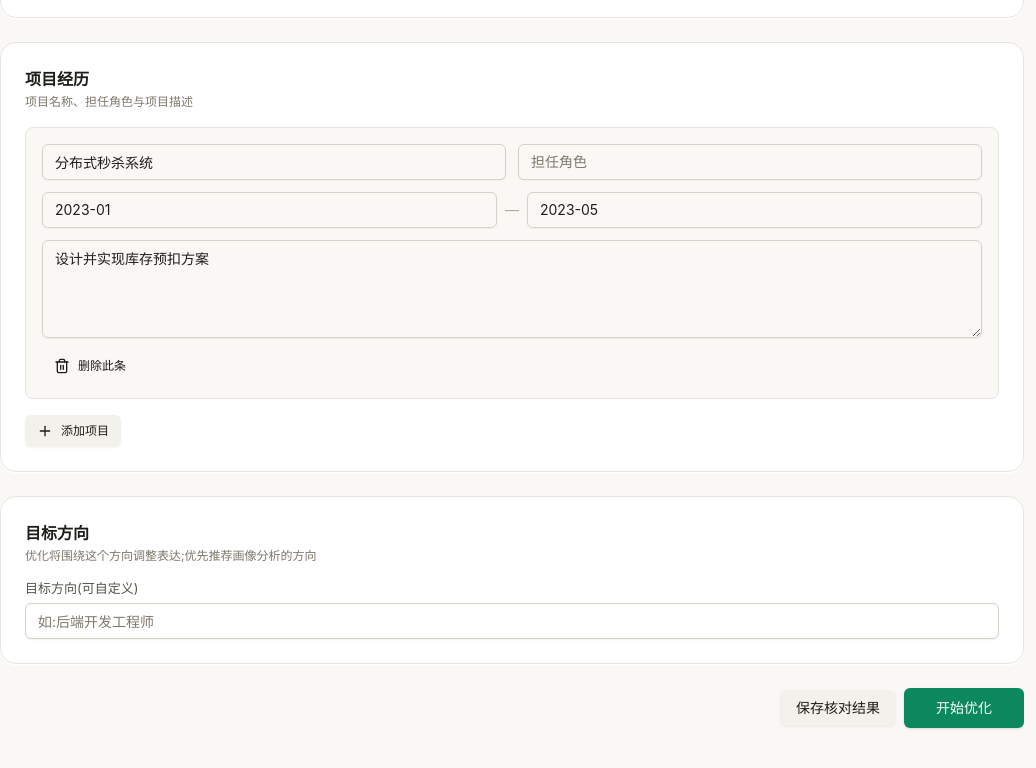
ResumeReview › 方向为空点「开始优化」:提示错误且不触发回调
The width and height of the screenshot is (1036, 768).
(page scrolled)
Step 1. Click the button "开始优化" → (964, 708), box [904,688,1024,728]
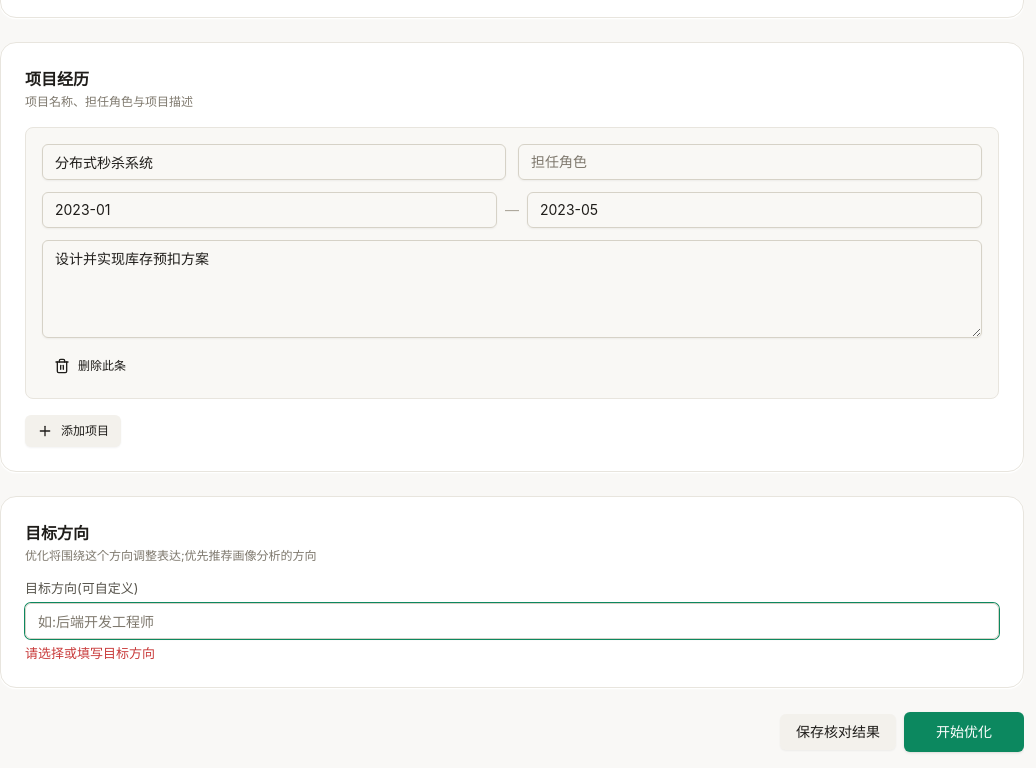
Expected: the text "请选择或填写目标方向" is shown, [25,645,155,661]
